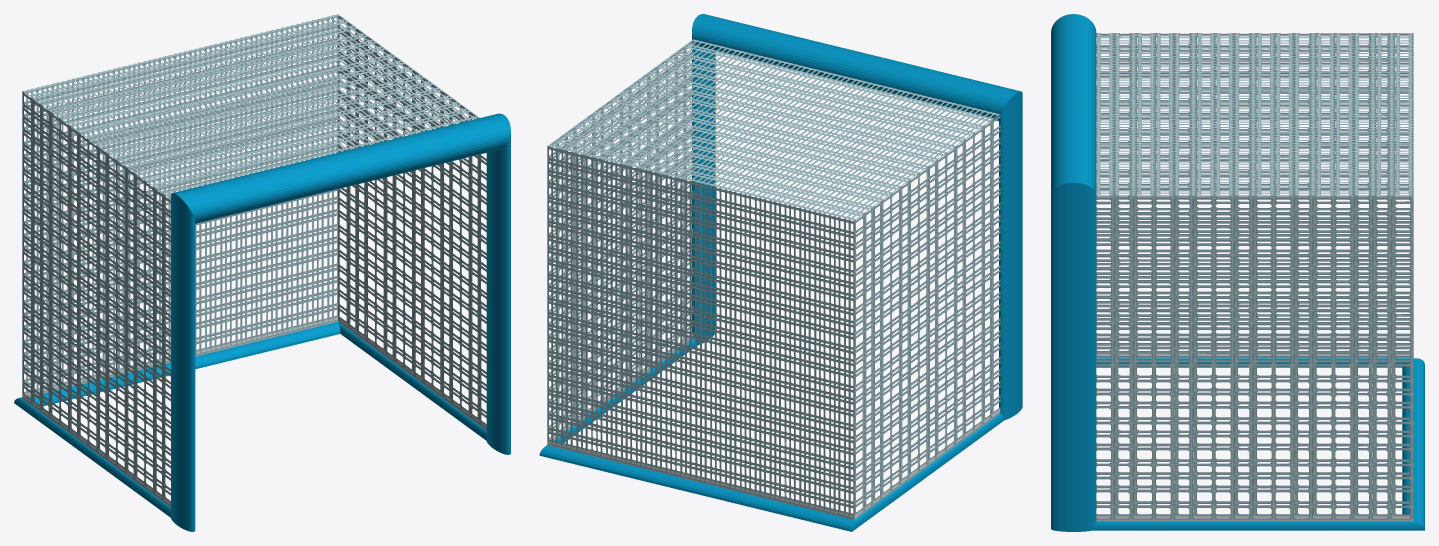
The model's file is rightsoccergoal.obj.
3 views of the same model, side by side, from view 1: azimuth 30°, elevation 25°; view 2: azimuth 150°, elevation 25°; view 3: azimuth 270°, elevation 25° (orthographic). The views are drawn at different scales.
Visible parts, largest first — view 1: NetOuter_NetOuterCube, NetInner_NetInnerCube, Goalsposts_GoalpostTube, Groundring_GroundringTube; view 2: NetOuter_NetOuterCube, NetInner_NetInnerCube, Goalsposts_GoalpostTube, Groundring_GroundringTube; view 3: NetOuter_NetOuterCube, NetInner_NetInnerCube, Goalsposts_GoalpostTube, Groundring_GroundringTube.
Part boxes in pixels (box(x1,y1,x2,y2)): NetOuter_NetOuterCube: box(22, 15, 486, 507); NetInner_NetInnerCube: box(22, 14, 486, 505); Goalsposts_GoalpostTube: box(171, 113, 510, 531); Groundring_GroundringTube: box(14, 322, 486, 517); NetOuter_NetOuterCube: box(547, 39, 1000, 519); NetInner_NetInnerCube: box(547, 40, 1000, 518); Goalsposts_GoalpostTube: box(692, 14, 1022, 420); Groundring_GroundringTube: box(539, 339, 1004, 531); NetOuter_NetOuterCube: box(1096, 33, 1413, 520); NetInner_NetInnerCube: box(1096, 33, 1413, 518); Goalsposts_GoalpostTube: box(1051, 14, 1096, 531); Groundring_GroundringTube: box(1093, 358, 1424, 530).
Bounding box in the file's own units: 1.04 × 1 × 0.9706.
